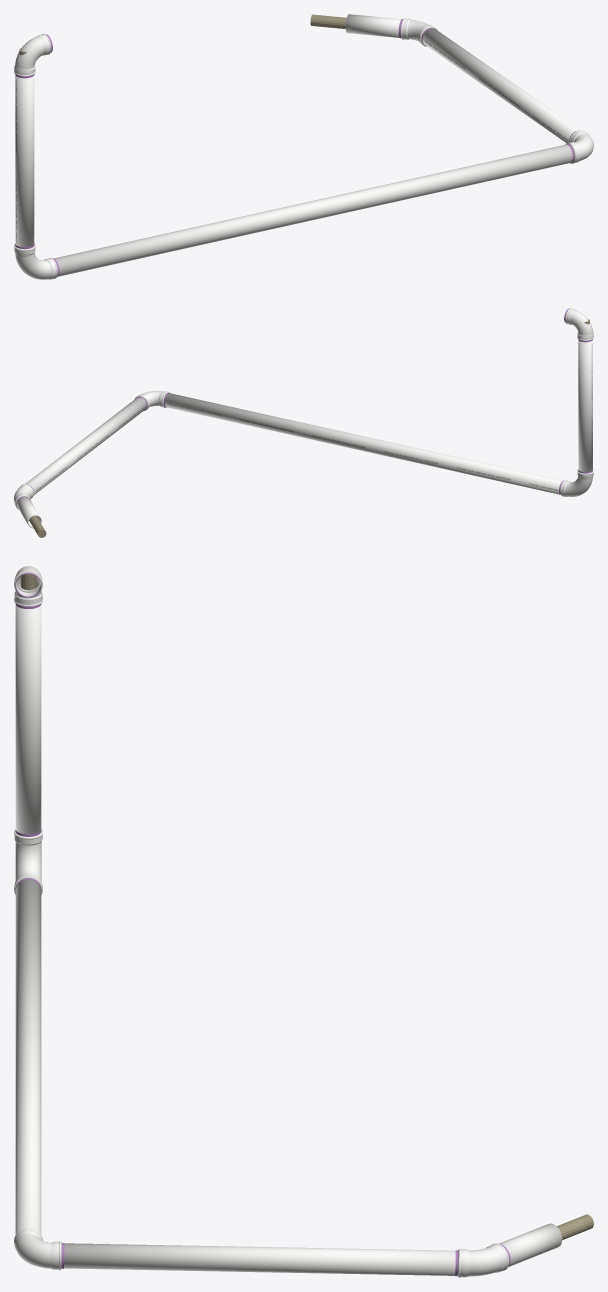
File: slab_pipes_dwv__sewer__39d7f539.glb
3 renders of one model, top to bottom at view 1: azimuth 30°, elevation 25°; view 2: azimuth 150°, elevation 25°; view 3: azimuth 270°, elevation 25°, orthographic. The views are drawn at different scales.
Visible parts, largest first — view 1: pipe_dwv_kitchen_aav, fit_elbow_pipe_dwv_kitchen_aav, flow_waste_pipe_dwv_kitchen_aav; view 2: pipe_dwv_kitchen_aav, fit_elbow_pipe_dwv_kitchen_aav; view 3: pipe_dwv_kitchen_aav.
Boxes of the visible parts, x1=… form: pipe_dwv_kitchen_aav: x1=14, y1=14, x2=593, y2=279; fit_elbow_pipe_dwv_kitchen_aav: x1=14, y1=33, x2=52, y2=78; flow_waste_pipe_dwv_kitchen_aav: x1=19, y1=14, x2=346, y2=54; pipe_dwv_kitchen_aav: x1=14, y1=340, x2=593, y2=528; fit_elbow_pipe_dwv_kitchen_aav: x1=564, y1=308, x2=593, y2=342; pipe_dwv_kitchen_aav: x1=14, y1=604, x2=562, y2=1277.
Size of the model in its own units: 2.12 by 0.9141 by 1.37.
